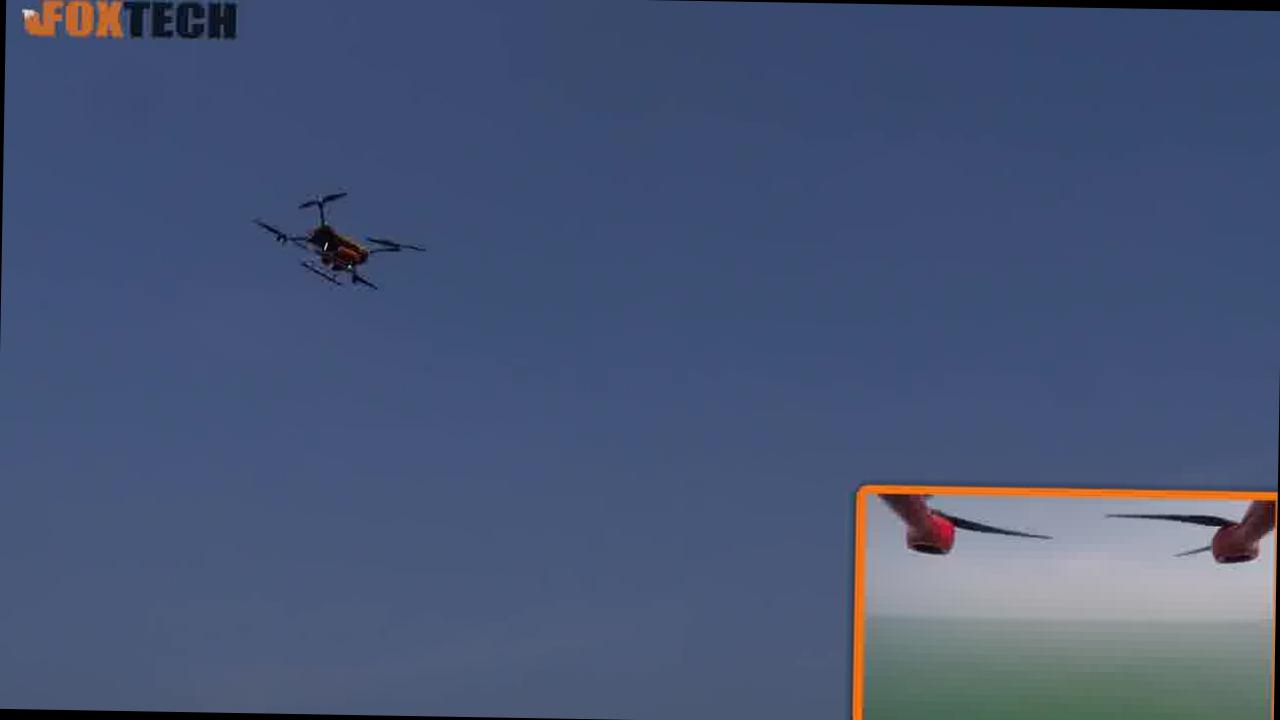drone: (242, 174, 441, 306)
